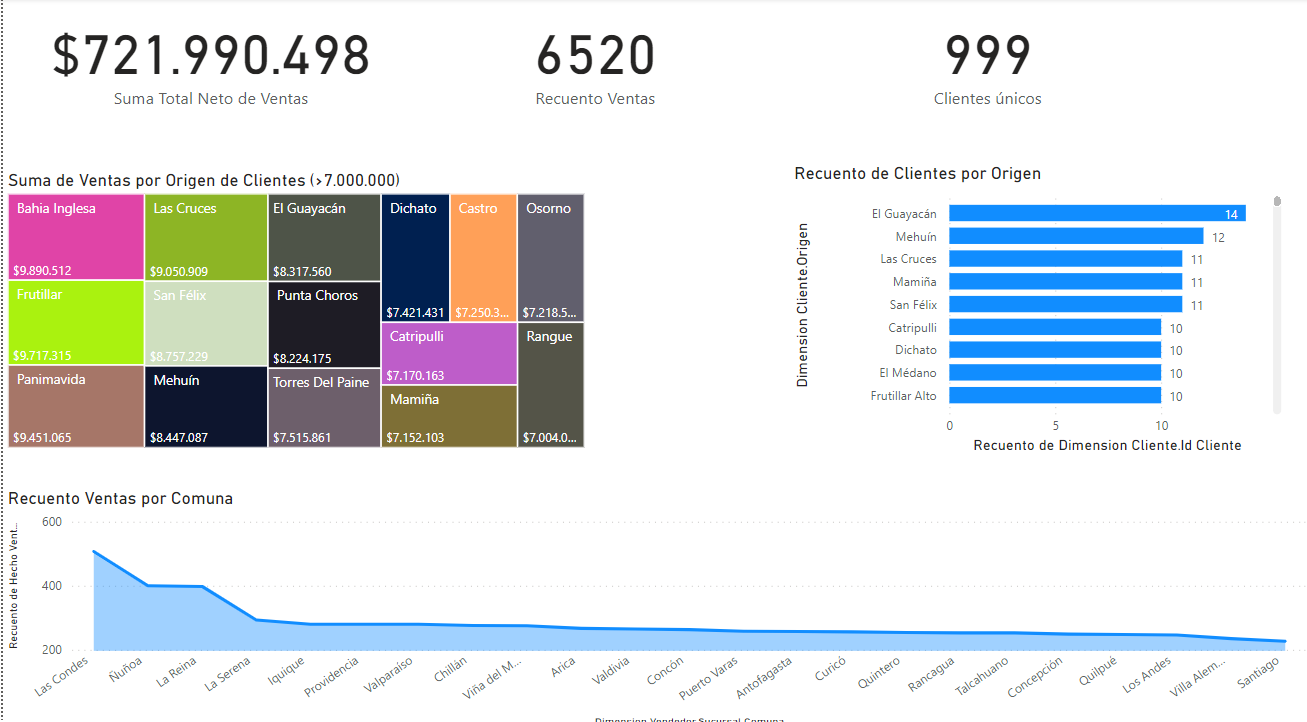

The page's visual inventory and layout, read from the dashboard file:
{"tool":"powerbi","page":{"name":"Página 1","canvas":[1280,720],"ordinal":0},"visuals":[{"type":"clusteredBarChart","title":"Recuento de Clientes por Origen","fields":{"Category":["AmericansDWDimensónCliente.Dimension Cliente.Origen"],"Y":["Count(AmericansDWDimensónCliente.Dimension Cliente.Id Cliente)"]},"box":[769.4,161.5,486.3,288.8],"z":1},{"type":"treemap","title":"Suma de Ventas por Origen de Clientes (>7.000.000)","fields":{"Group":["AmericansDWDimensónCliente.Dimension Cliente.Origen"],"Values":["Sum(AmericansDWHechoVenta.Hecho Venta.Total Neto)"]},"box":[0,167.2,573.7,277.4],"z":2},{"type":"areaChart","title":"Recuento Ventas por Comuna","fields":{"Category":["AmericansDW.Dimension Vendedor.Sucursal Comuna"],"Y":["CountNonNull(AmericansDWHechoVenta.Hecho Venta.Id Detalle Venta)"]},"box":[0,479,1280.3,240.2],"z":3},{"type":"card","fields":{"Values":["Sum(AmericansDWHechoVenta.Hecho Venta.Total Neto)"]},"box":[0,0,407.1,118.6],"z":4},{"type":"card","fields":{"Values":["CountNonNull(AmericansDWHechoVenta.Hecho Venta.Id Detalle Venta)"]},"box":[421.7,0,315.3,117.8],"z":5},{"type":"card","fields":{"Values":["Count(AmericansDWHechoVenta.Hecho Venta.Id Cliente)"]},"box":[805.5,0,315.3,117.8],"z":6}]}

Visuals, with their boxes in screenshot pixels (x1, y1, x2, y2), scaled from the page's 1280x720 canvas onto the 1307x722 screenshot:
"Recuento de Clientes por Origen" clusteredBarChart: <region>786, 162, 1282, 452</region>
"Suma de Ventas por Origen de Clientes (>7.000.000)" treemap: <region>0, 168, 586, 446</region>
"Recuento Ventas por Comuna" areaChart: <region>0, 480, 1306, 721</region>
card - Sum(AmericansDWHechoVenta.Hecho Venta.Total Neto): <region>0, 0, 416, 119</region>
card - CountNonNull(AmericansDWHechoVenta.Hecho Venta.Id Detalle Venta): <region>431, 0, 753, 118</region>
card - Count(AmericansDWHechoVenta.Hecho Venta.Id Cliente): <region>822, 0, 1144, 118</region>
